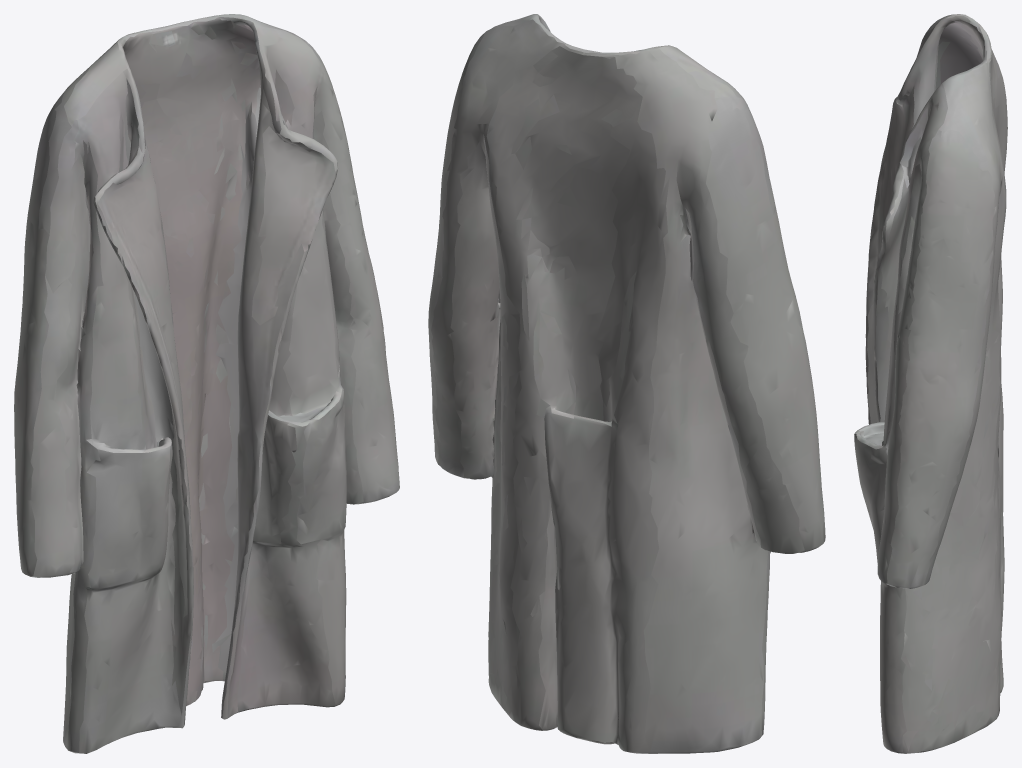
File: casacos-opt.glb
3 renders of one model, left to right at view 1: azimuth 30°, elevation 25°; view 2: azimuth 150°, elevation 25°; view 3: azimuth 270°, elevation 25°, orthographic. The views are drawn at different scales.
Parts seen in each view (by area): view 1: textured_mesh; view 2: textured_mesh; view 3: textured_mesh.
Part boxes in pixels (left/top/right/bottom): textured_mesh: left=14, top=14, right=399, bottom=753; textured_mesh: left=428, top=14, right=825, bottom=753; textured_mesh: left=854, top=14, right=1007, bottom=753.
Bounding box in the file's own units: 1.14 × 1.99 × 0.4259.
1 material, 1 textured.
